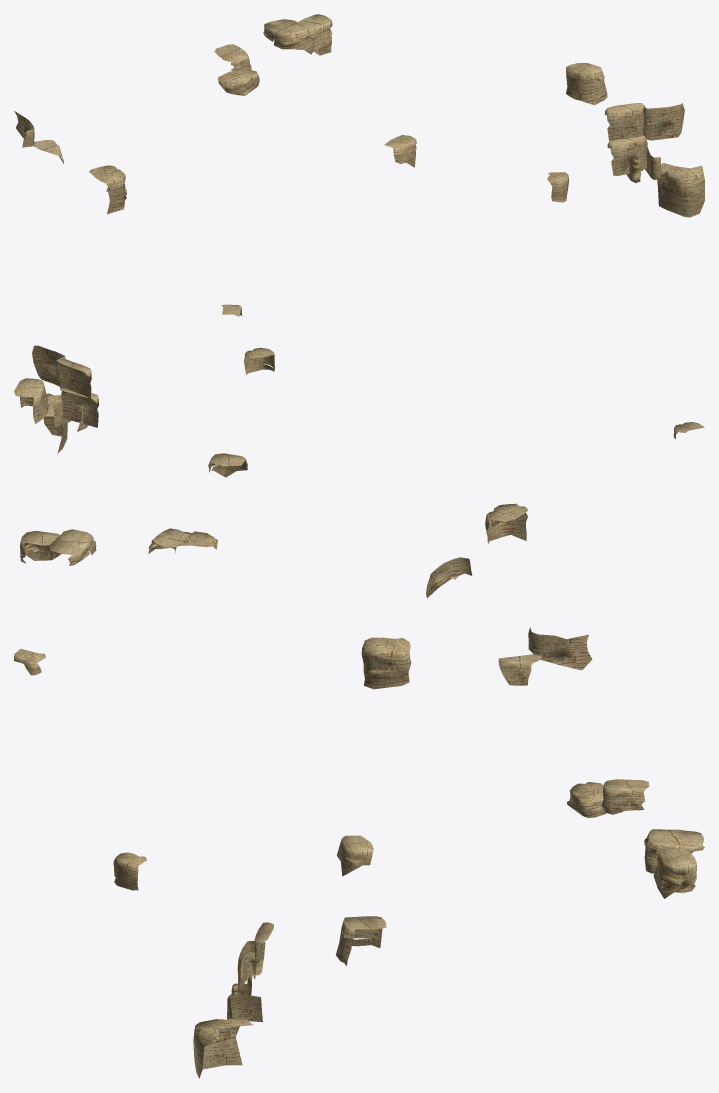
The model's file is S_Rock_Yellow055_A.FBX.
3 renders of one model, top to bottom at view 1: azimuth 30°, elevation 25°; view 2: azimuth 150°, elevation 25°; view 3: azimuth 270°, elevation 25°, orthographic. The views are drawn at different scales.
Parts seen in each view (by area): view 1: S_Rock_Yellow055_017, S_Rock_Yellow055_011, S_Rock_Yellow055_016, S_Rock_Yellow055_012, S_Rock_Yellow055_007, S_Rock_Yellow055_013, S_Rock_Yellow055_002, S_Rock_Yellow055_008, S_Rock_Yellow055_006, S_Rock_Yellow055_009, S_Rock_Yellow055_005, S_Rock_Yellow055_010; view 2: S_Rock_Yellow055_002, S_Rock_Yellow055_007, S_Rock_Yellow055_013, S_Rock_Yellow055_012, S_Rock_Yellow055_011, S_Rock_Yellow055_008, S_Rock_Yellow055_016, S_Rock_Yellow055_004, S_Rock_Yellow055_009, S_Rock_Yellow055_010, S_Rock_Yellow055_017, S_Rock_Yellow055_005 (+1 smaller); view 3: S_Rock_Yellow055_002, S_Rock_Yellow055_017, S_Rock_Yellow055_008, S_Rock_Yellow055_004, S_Rock_Yellow055_011, S_Rock_Yellow055_007, S_Rock_Yellow055_005, S_Rock_Yellow055_009, S_Rock_Yellow055_006, S_Rock_Yellow055_003, S_Rock_Yellow055_010, S_Rock_Yellow055_015.
Part boxes in pixels (x1,y1,x2,y2): S_Rock_Yellow055_017: (657, 163, 704, 217); S_Rock_Yellow055_011: (566, 63, 607, 105); S_Rock_Yellow055_016: (643, 103, 684, 140); S_Rock_Yellow055_012: (604, 103, 644, 141); S_Rock_Yellow055_007: (263, 19, 314, 54); S_Rock_Yellow055_013: (607, 135, 647, 175); S_Rock_Yellow055_002: (89, 165, 126, 214); S_Rock_Yellow055_008: (298, 14, 332, 55); S_Rock_Yellow055_006: (218, 69, 259, 95); S_Rock_Yellow055_009: (384, 135, 416, 167); S_Rock_Yellow055_005: (214, 44, 251, 70); S_Rock_Yellow055_010: (547, 172, 568, 202); S_Rock_Yellow055_002: (485, 503, 527, 544); S_Rock_Yellow055_007: (49, 529, 96, 565); S_Rock_Yellow055_013: (60, 388, 98, 427); S_Rock_Yellow055_012: (56, 358, 91, 401); S_Rock_Yellow055_011: (14, 378, 48, 423); S_Rock_Yellow055_008: (20, 531, 59, 563); S_Rock_Yellow055_016: (32, 345, 65, 386); S_Rock_Yellow055_004: (426, 557, 472, 598); S_Rock_Yellow055_009: (208, 453, 247, 477); S_Rock_Yellow055_010: (244, 348, 274, 374); S_Rock_Yellow055_017: (43, 393, 67, 453); S_Rock_Yellow055_005: (148, 528, 188, 553); S_Rock_Yellow055_002: (361, 637, 411, 689); S_Rock_Yellow055_017: (193, 1017, 253, 1078); S_Rock_Yellow055_008: (653, 848, 696, 898); S_Rock_Yellow055_004: (528, 627, 592, 670); S_Rock_Yellow055_011: (336, 916, 386, 965); S_Rock_Yellow055_007: (644, 829, 704, 873); S_Rock_Yellow055_005: (601, 779, 649, 814); S_Rock_Yellow055_009: (337, 835, 373, 876); S_Rock_Yellow055_006: (567, 782, 606, 817); S_Rock_Yellow055_003: (498, 654, 541, 685); S_Rock_Yellow055_010: (113, 852, 146, 890); S_Rock_Yellow055_015: (227, 994, 262, 1022).
Bounding box in the file's own units: 20238 × 3885 × 17848.
